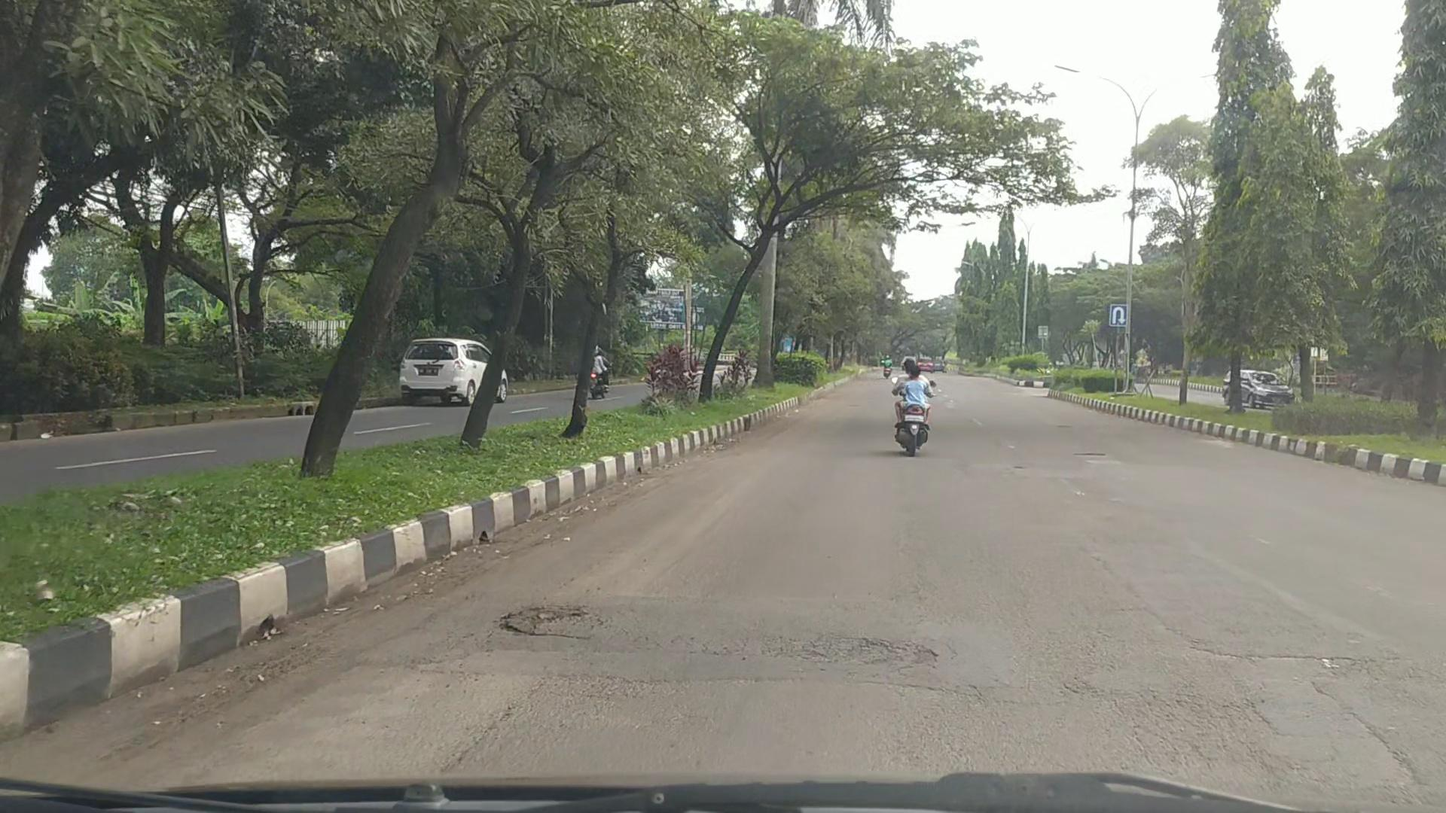pothole: (514, 608, 586, 637)
